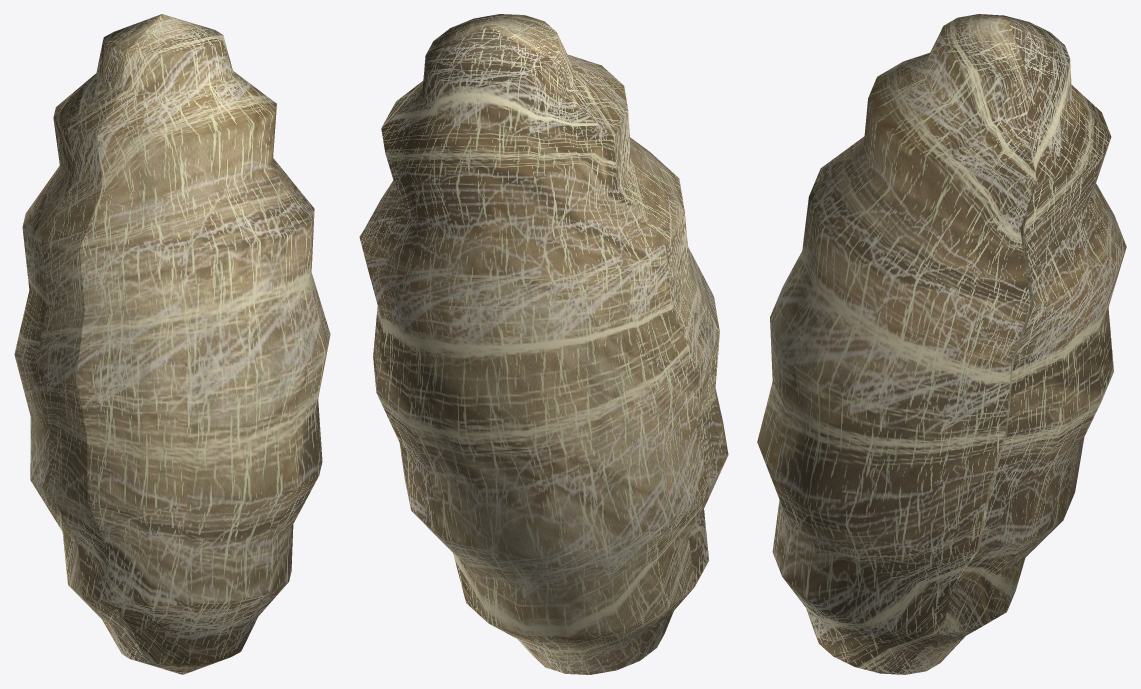
File: 准备破茧.fbx
The picture shows the model from 3 angles, left to right: view 1: azimuth 30°, elevation 25°; view 2: azimuth 150°, elevation 25°; view 3: azimuth 270°, elevation 25°; orthographic projection. The views are drawn at different scales.
Parts seen in each view (by area): view 1: 茧.001; view 2: 茧.001; view 3: 茧.001.
Boxes of the visible parts, box(x1,y1,x2,y2) form: 茧.001: box(14, 14, 330, 674); 茧.001: box(359, 14, 728, 674); 茧.001: box(757, 14, 1126, 674).
Size of the model in its own units: 115 by 240 by 121.
1 material, 1 textured.
